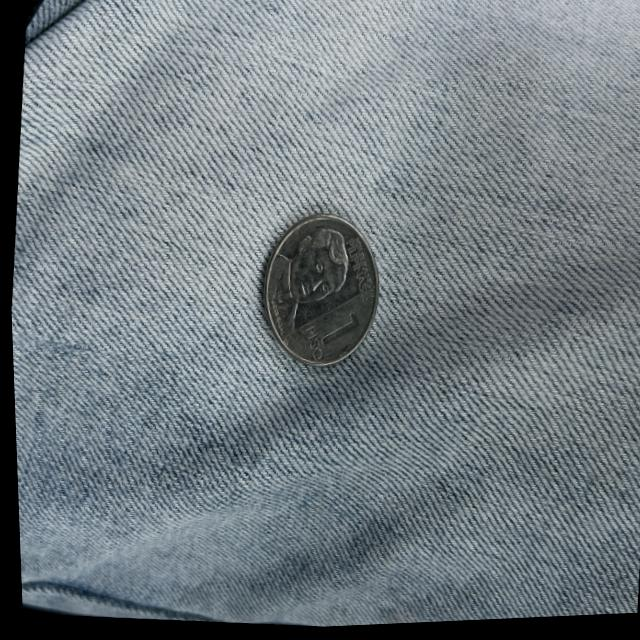1_New_Front: (295, 307, 361, 367)
